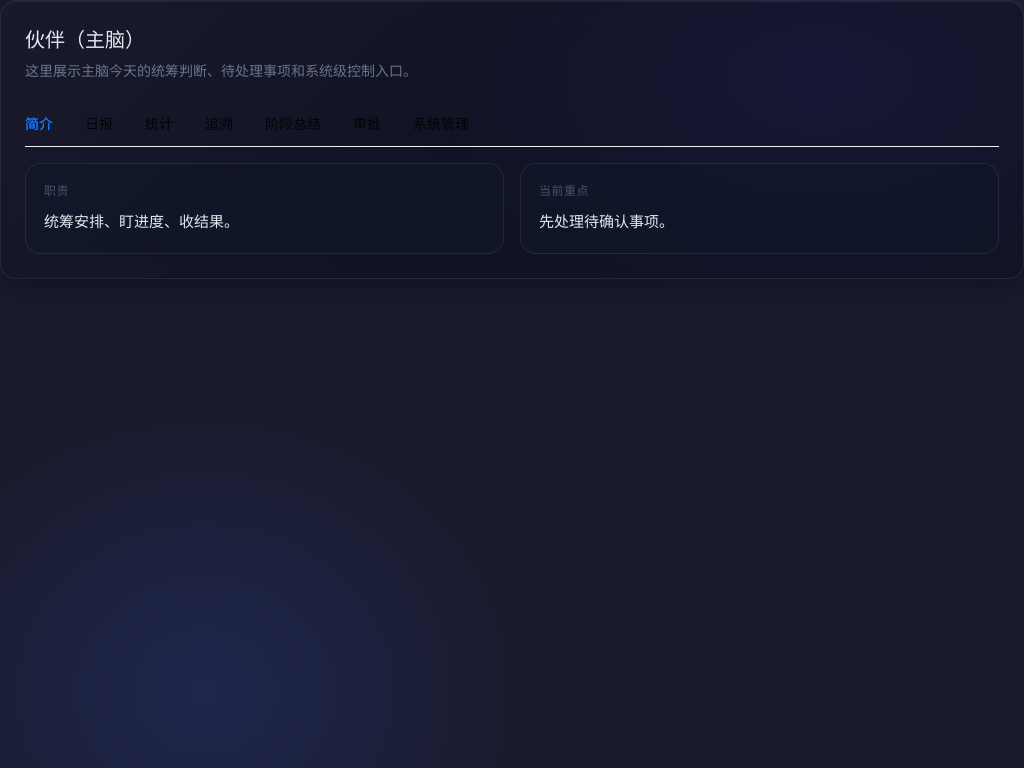
Test: MainBrainCockpitPanel › renders main brain tabs and shows approvals in a dedicated tab
The width and height of the screenshot is (1024, 768).
Check: the tab "简介" is shown, box top-left (25, 113), bottom-right (53, 135)
Check: the tab "日报" is shown, box top-left (85, 113), bottom-right (113, 135)
Click the tab "审批".
click(367, 124)  # box top-left (353, 113), bottom-right (381, 135)
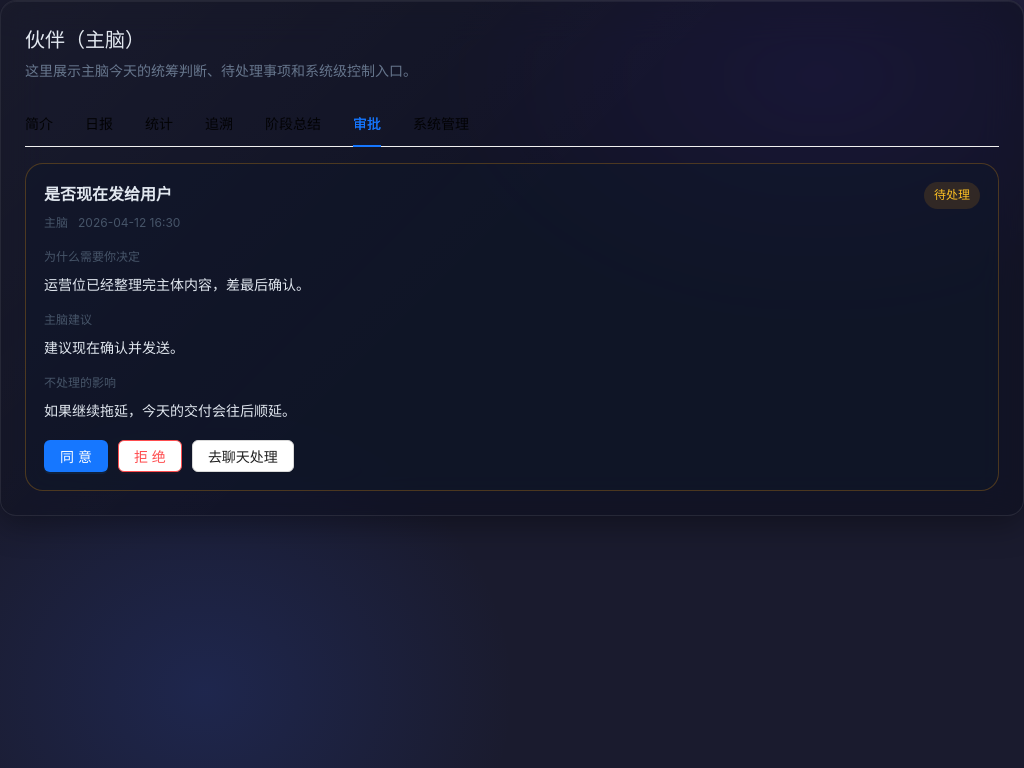
Check: the text "是否现在发给用户" is shown, box top-left (44, 182), bottom-right (180, 208)
Check: the button named "同意" is shown, box top-left (44, 440), bottom-right (108, 472)
Check: the button named "拒绝" is shown, box top-left (118, 440), bottom-right (182, 472)
